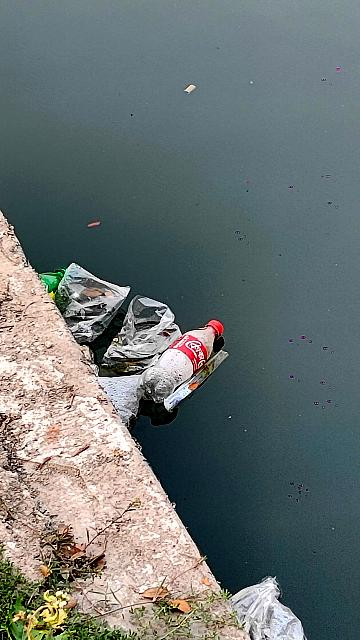bottle: (144, 330, 238, 391)
